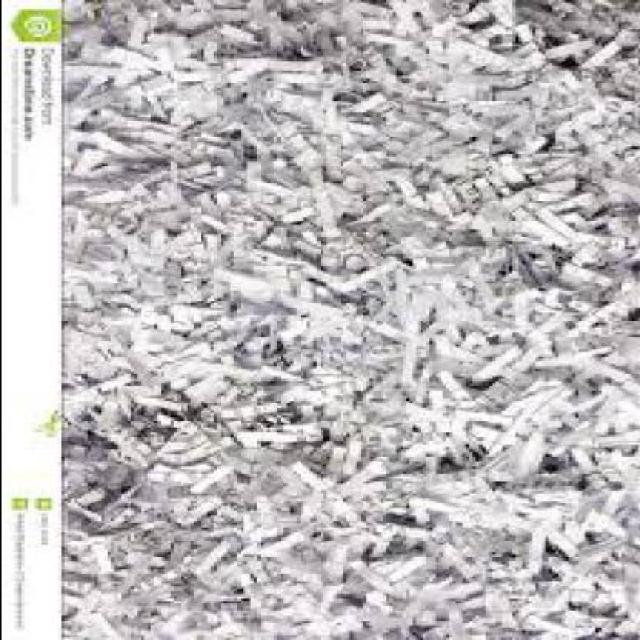PAPER: (61, 0, 638, 640)
